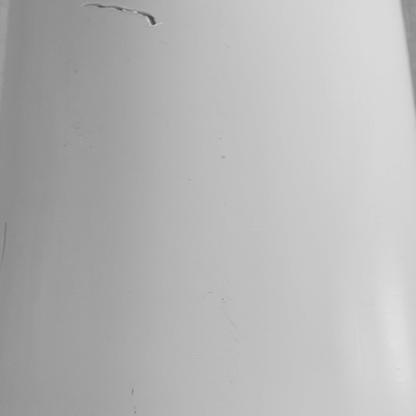fengxi: (79, 2, 157, 28)
